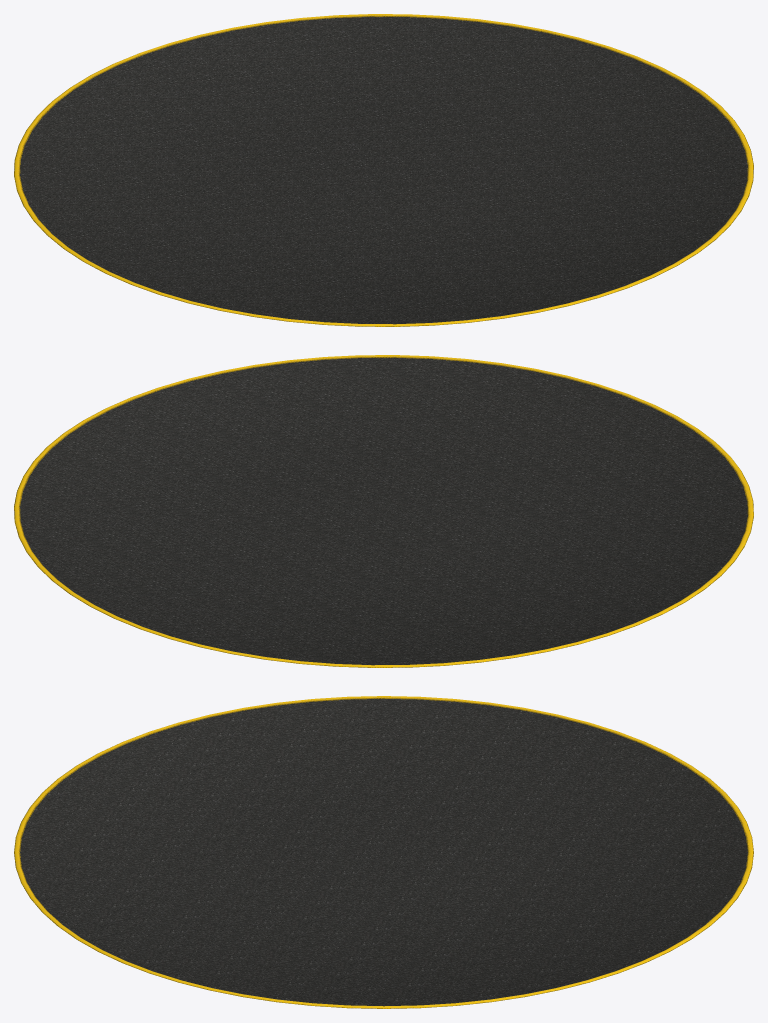
Rendered from arena.FBX.
3 renders of one model, top to bottom at view 1: azimuth 30°, elevation 25°; view 2: azimuth 150°, elevation 25°; view 3: azimuth 270°, elevation 25°, orthographic.
Parts seen in each view (by area): view 1: Cylinder001; view 2: Cylinder001; view 3: Cylinder001.
Part boxes in pixels (left/top/right/bottom): Cylinder001: left=14, top=14, right=753, bottom=326; Cylinder001: left=14, top=355, right=753, bottom=667; Cylinder001: left=14, top=696, right=753, bottom=1008.
Bounding box in the file's own units: 40 × 0.0896 × 40.
